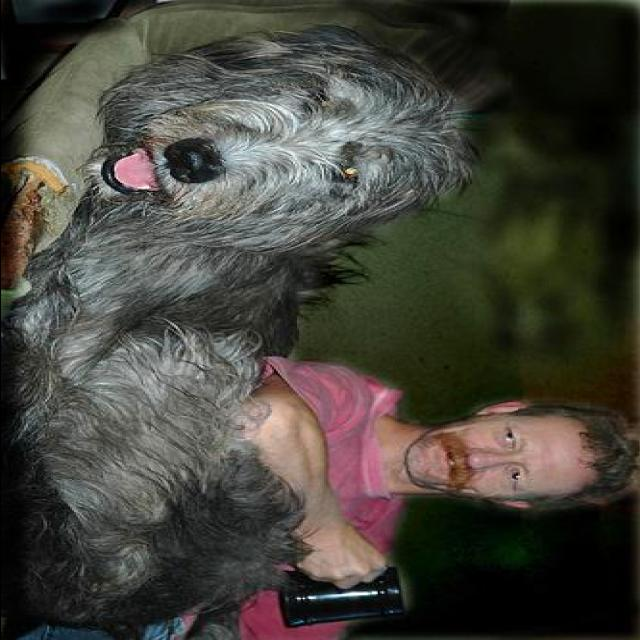irish_wolfhound: (4, 17, 478, 638)
